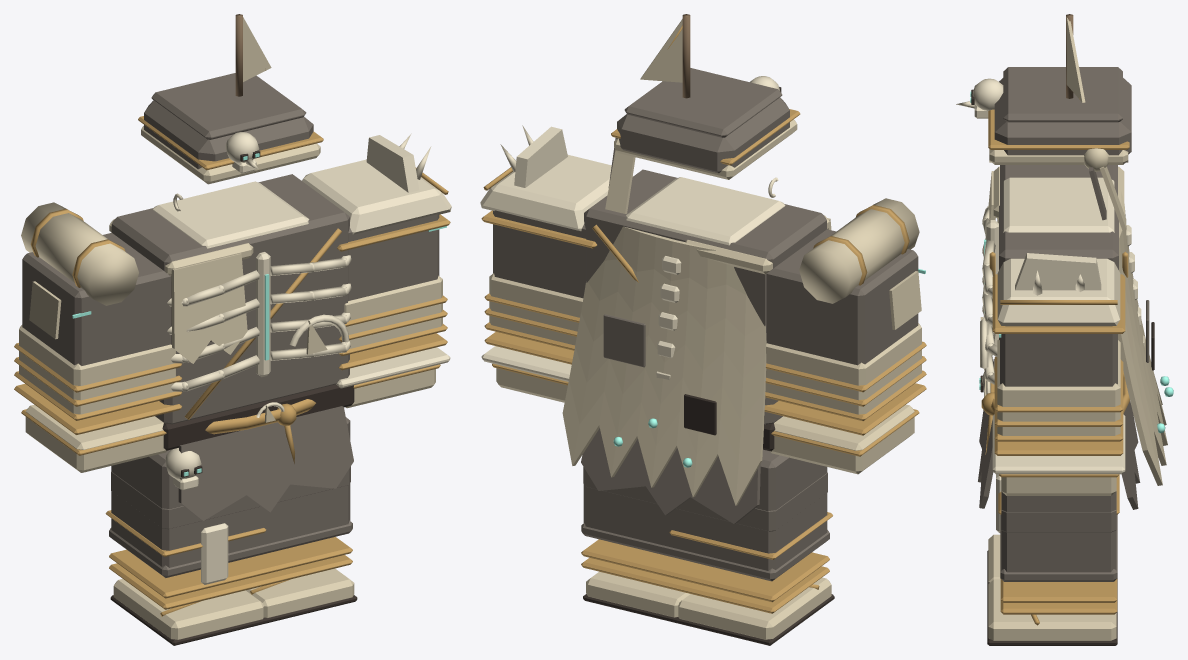
Rendered from Castaway.fbx.
3 renders of one model, left to right at view 1: azimuth 30°, elevation 25°; view 2: azimuth 150°, elevation 25°; view 3: azimuth 270°, elevation 25°, orthographic. The views are drawn at different scales.
Parts seen in each view (by area): view 1: Armor_Castaway_Chest_Ashcloth_Common, Armor_Castaway_Belt_AshclothSway_Common, Armor_Castaway_PauldronR_Ashcloth_Common, Armor_Castaway_Helm_Ashcloth_Common, Armor_Castaway_ThighR_Ashcloth_Common, Armor_Castaway_Chest_Bone_Uncommon, Armor_Castaway_PauldronL_Bone_Common, Armor_Castaway_BracerR_Sail_Common, Armor_Castaway_PauldronR_Sail_Common, Armor_Castaway_Chest_Bone_Common, Armor_Castaway_Chest_SailSway_Common, Armor_Castaway_PauldronL_Ashcloth_Common (+32 smaller); view 2: Armor_Castaway_Chest_SailSway_Common, Armor_Castaway_Helm_Ashcloth_Common, Armor_Castaway_PauldronR_Ashcloth_Common, Armor_Castaway_ThighR_Ashcloth_Common, Armor_Castaway_Chest_Ashcloth_Common, Armor_Castaway_PauldronL_Bone_Common, Armor_Castaway_PauldronR_Sail_Common, Armor_Castaway_BracerR_Sail_Common, Armor_Castaway_Chest_Bone_Uncommon, Armor_Castaway_Belt_AshclothSway_Common, Armor_Castaway_PauldronL_Ashcloth_Common, Armor_Castaway_GloveR_Sail_Common (+27 smaller); view 3: Armor_Castaway_Helm_Ashcloth_Common, Armor_Castaway_ThighL_Ashcloth_Common, Armor_Castaway_PauldronL_Bone_Common, Armor_Castaway_PauldronL_Ashcloth_Common, Armor_Castaway_Chest_Bone_Uncommon, Armor_Castaway_Chest_SailSway_Common, Armor_Castaway_BracerL_Sail_Common, Armor_Castaway_Chest_Ashcloth_Common, Armor_Castaway_GreaveL_Rope_Common, Armor_Castaway_BootL_Sail_Common, Armor_Castaway_BracerL_Rope_Uncommon, Armor_Castaway_BracerL_Bone_Rare (+18 smaller).
Boxes of the visible parts, bbox=[...] form: Armor_Castaway_Chest_Ashcloth_Common: bbox=[111, 174, 349, 424]; Armor_Castaway_Belt_AshclothSway_Common: bbox=[178, 406, 353, 520]; Armor_Castaway_PauldronR_Ashcloth_Common: bbox=[22, 232, 170, 365]; Armor_Castaway_Helm_Ashcloth_Common: bbox=[144, 73, 313, 169]; Armor_Castaway_ThighR_Ashcloth_Common: bbox=[109, 449, 260, 577]; Armor_Castaway_Chest_Bone_Uncommon: bbox=[152, 181, 350, 391]; Armor_Castaway_PauldronL_Bone_Common: bbox=[302, 135, 451, 234]; Armor_Castaway_BracerR_Sail_Common: bbox=[19, 325, 175, 414]; Armor_Castaway_PauldronR_Sail_Common: bbox=[21, 202, 138, 305]; Armor_Castaway_Chest_Bone_Common: bbox=[167, 252, 351, 377]; Armor_Castaway_Chest_SailSway_Common: bbox=[171, 253, 247, 363]; Armor_Castaway_PauldronL_Ashcloth_Common: bbox=[348, 214, 439, 300]; Armor_Castaway_Chest_SailSway_Common: bbox=[562, 218, 831, 505]; Armor_Castaway_Helm_Ashcloth_Common: bbox=[617, 68, 789, 173]; Armor_Castaway_PauldronR_Ashcloth_Common: bbox=[766, 229, 918, 365]; Armor_Castaway_ThighR_Ashcloth_Common: bbox=[674, 449, 829, 581]; Armor_Castaway_Chest_Ashcloth_Common: bbox=[584, 169, 826, 424]; Armor_Castaway_PauldronL_Bone_Common: bbox=[480, 126, 633, 231]; Armor_Castaway_PauldronR_Sail_Common: bbox=[799, 198, 919, 303]; Armor_Castaway_BracerR_Sail_Common: bbox=[765, 323, 921, 414]; Armor_Castaway_Chest_Bone_Uncommon: bbox=[625, 177, 785, 245]; Armor_Castaway_Belt_AshclothSway_Common: bbox=[581, 428, 760, 523]; Armor_Castaway_PauldronL_Ashcloth_Common: bbox=[493, 210, 585, 298]; Armor_Castaway_GloveR_Sail_Common: bbox=[770, 404, 914, 474]; Armor_Castaway_Helm_Ashcloth_Common: bbox=[994, 67, 1131, 155]; Armor_Castaway_ThighL_Ashcloth_Common: bbox=[1000, 492, 1117, 581]; Armor_Castaway_PauldronL_Bone_Common: bbox=[997, 253, 1120, 325]; Armor_Castaway_PauldronL_Ashcloth_Common: bbox=[1000, 326, 1117, 386]; Armor_Castaway_Chest_Bone_Uncommon: bbox=[982, 177, 1114, 384]; Armor_Castaway_Chest_SailSway_Common: bbox=[983, 171, 1167, 485]; Armor_Castaway_BracerL_Sail_Common: bbox=[997, 339, 1120, 435]; Armor_Castaway_Chest_Ashcloth_Common: bbox=[999, 165, 1118, 339]; Armor_Castaway_GreaveL_Rope_Common: bbox=[1000, 579, 1117, 614]; Armor_Castaway_BootL_Sail_Common: bbox=[988, 579, 1116, 640]; Armor_Castaway_BracerL_Rope_Uncommon: bbox=[994, 410, 1123, 455]; Armor_Castaway_BracerL_Bone_Rare: bbox=[992, 414, 1125, 474].
Bounding box in the file's own units: 430 × 610 × 204.
